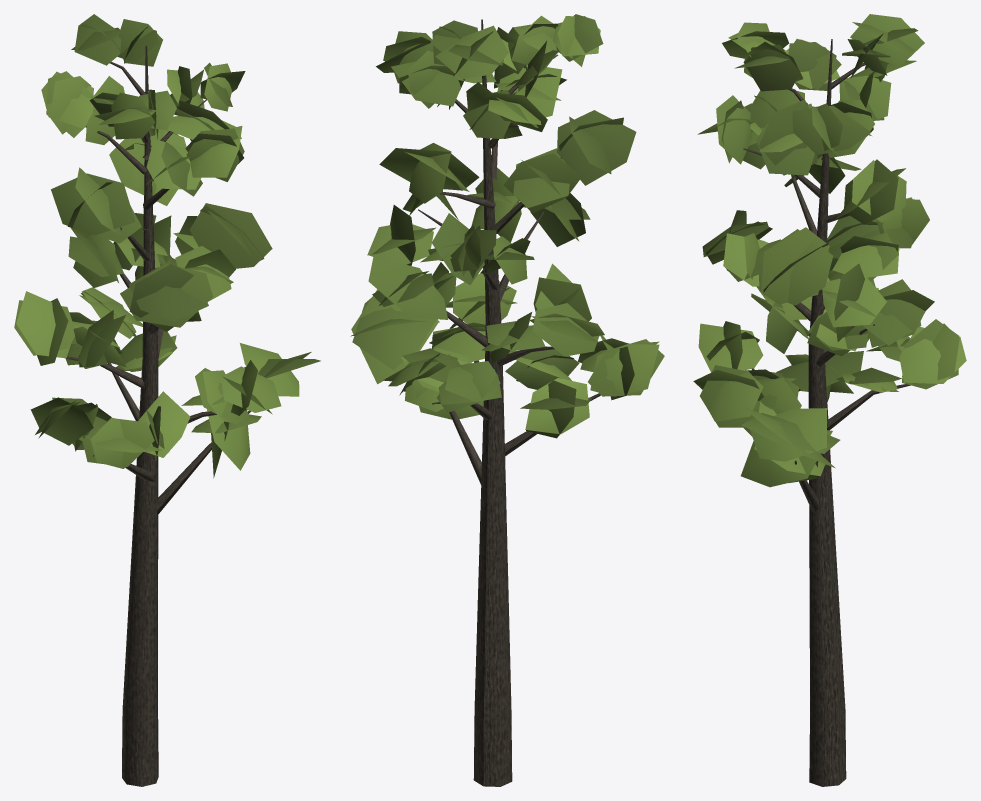
The model's file is upright_02_native_base_T016494_lod2.glb.
3 renders of one model, left to right at view 1: azimuth 30°, elevation 25°; view 2: azimuth 150°, elevation 25°; view 3: azimuth 270°, elevation 25°, orthographic. The views are drawn at different scales.
Visible parts, largest first — view 1: individual_curved_leaf_sprigs, retained_branches_1, retained_branches_0; view 2: individual_curved_leaf_sprigs, retained_branches_1, retained_branches_0; view 3: individual_curved_leaf_sprigs, retained_branches_1, retained_branches_0.
Part boxes in pixels (x1=…): individual_curved_leaf_sprigs: x1=14, y1=14, x2=320, y2=478; retained_branches_1: x1=66, y1=45, x2=250, y2=719; retained_branches_0: x1=122, y1=710, x2=158, y2=786; individual_curved_leaf_sprigs: x1=350, y1=14, x2=664, y2=438; retained_branches_1: x1=418, y1=19, x2=600, y2=715; retained_branches_0: x1=473, y1=710, x2=512, y2=786; individual_curved_leaf_sprigs: x1=693, y1=14, x2=966, y2=487; retained_branches_1: x1=722, y1=39, x2=910, y2=717; retained_branches_0: x1=809, y1=710, x2=846, y2=786.
Size of the model in its own units: 5.02 by 12.84 by 4.22.
2 materials, 1 textured.
